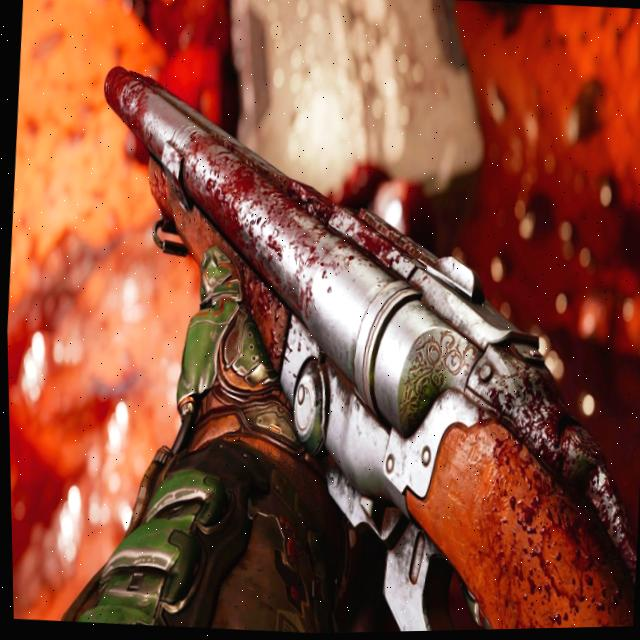firearm: (62, 51, 640, 639)
